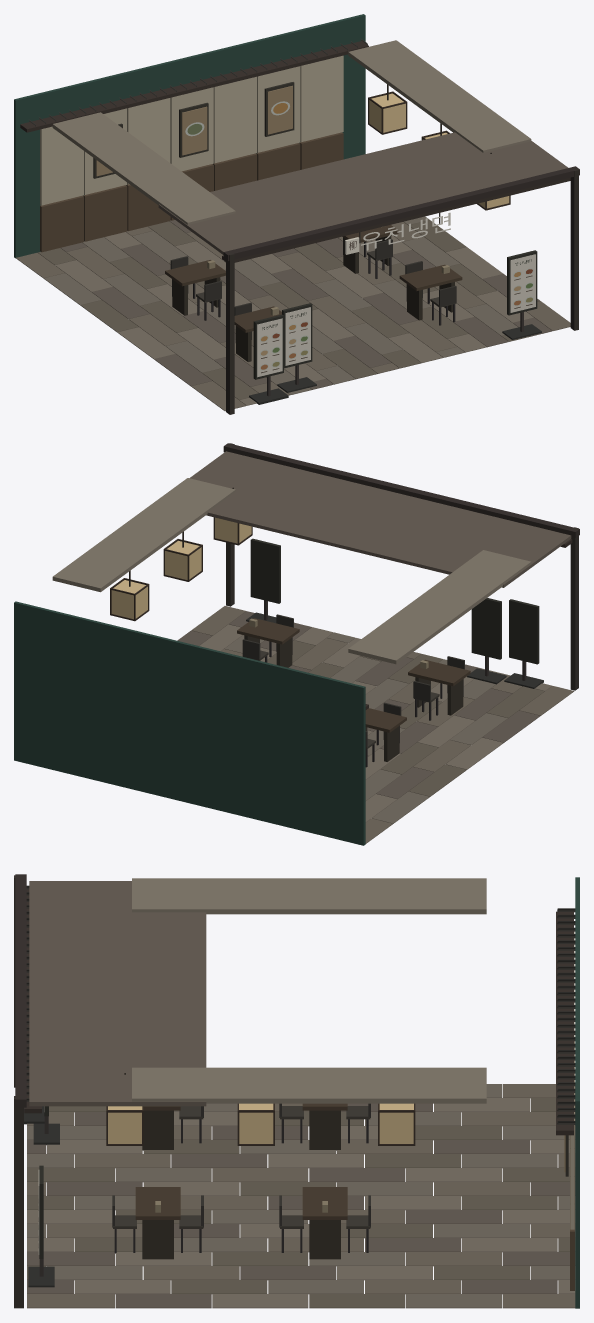
Rendered from front.glb.
3 renders of one model, top to bottom at view 1: azimuth 30°, elevation 25°; view 2: azimuth 150°, elevation 25°; view 3: azimuth 270°, elevation 25°, orthographic. The views are drawn at different scales.
Visible parts, largest first — view 1: Surface; view 2: Surface; view 3: Surface.
Boxes of the visible parts, x1=… form: Surface: x1=14, y1=14, x2=579, y2=414; Surface: x1=14, y1=443, x2=579, y2=845; Surface: x1=14, y1=874, x2=579, y2=1308.
Size of the model in its own units: 8.05 by 3.49 by 8.54.
